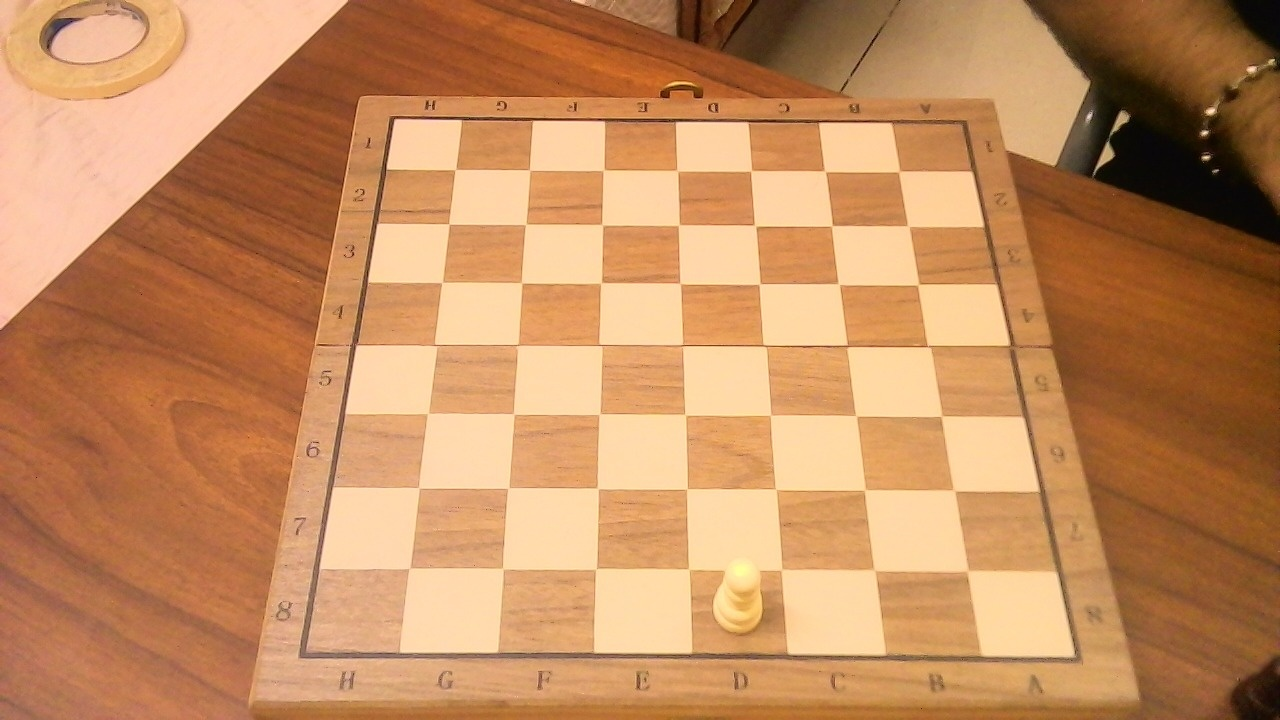P: (702, 547, 771, 638)
